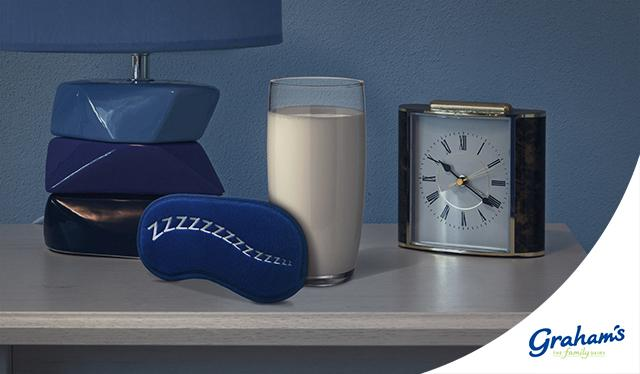glass of milk: (265, 69, 370, 291)
